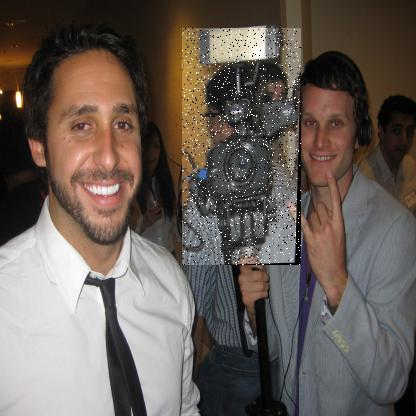Camera: (183, 29, 303, 267)
